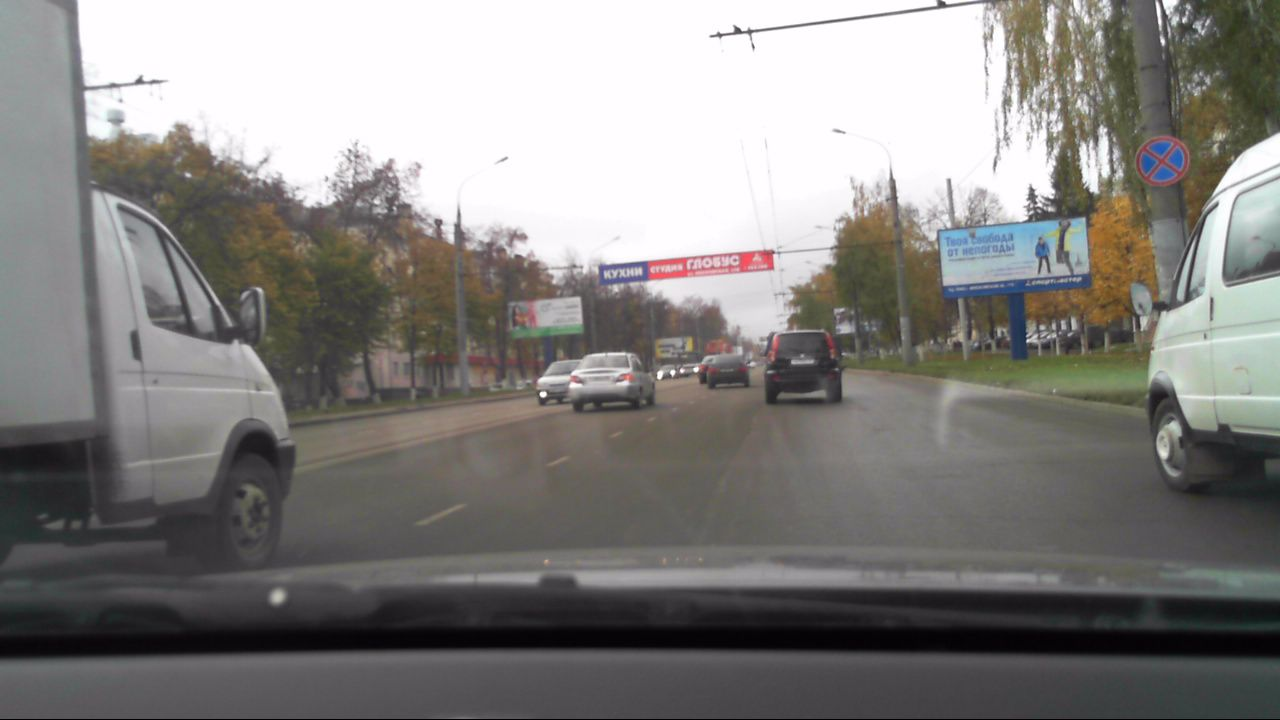No Parking: (1134, 133, 1191, 192)
